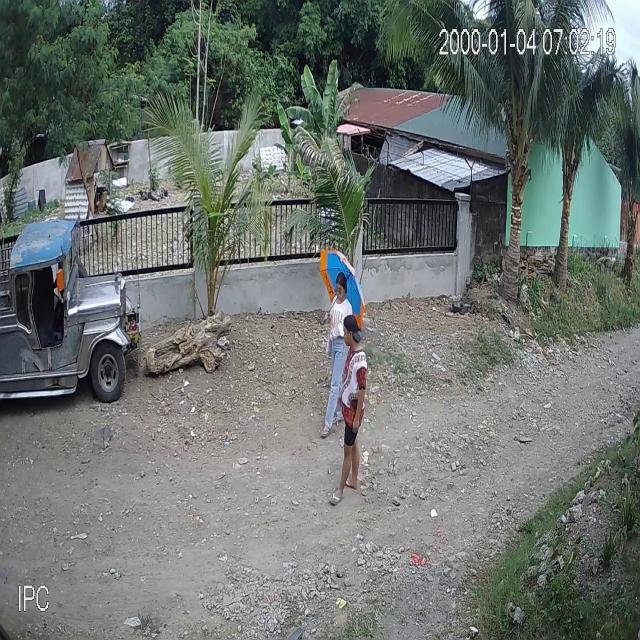walking: (318, 245, 367, 440), (332, 312, 372, 508)
